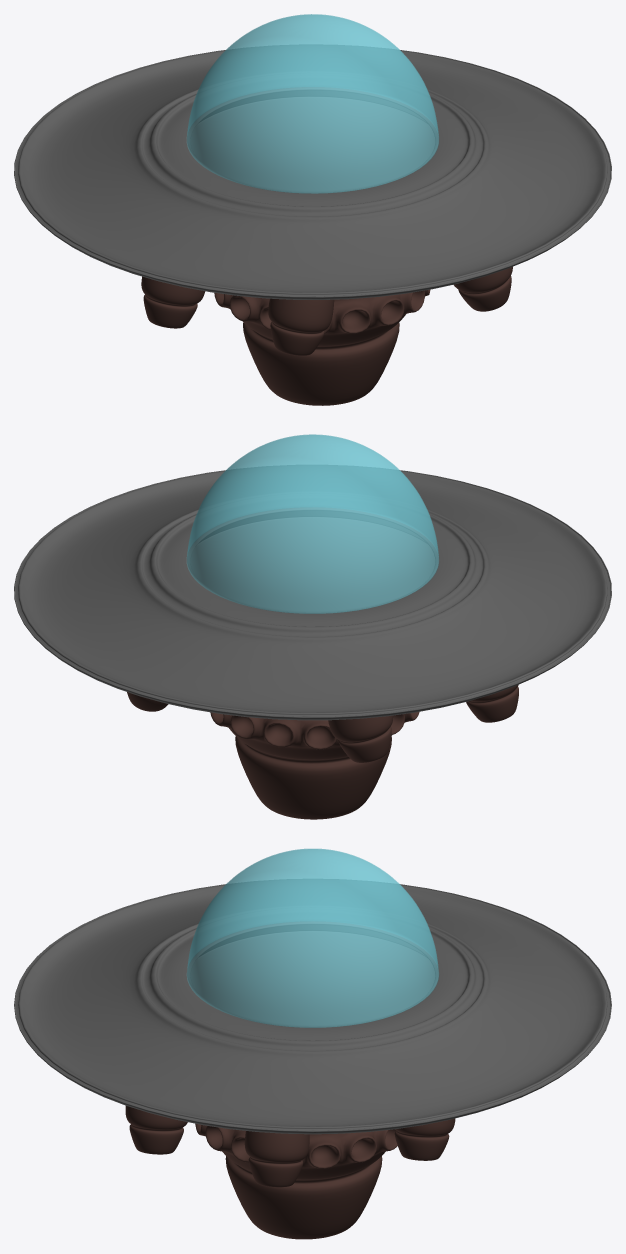
Rendered from EnemySaucer.fbx.
The picture shows the model from 3 angles, top to bottom: view 1: azimuth 30°, elevation 25°; view 2: azimuth 150°, elevation 25°; view 3: azimuth 270°, elevation 25°; orthographic projection.
Visible parts, largest first — view 1: Cylinder.004, Sphere, Circle.003, Circle.001; view 2: Cylinder.004, Sphere, Circle.003, Circle.001; view 3: Cylinder.004, Sphere, Circle.003, Circle.001.
Boxes of the visible parts, x1=… form: Cylinder.004: x1=14, y1=50, x2=611, y2=299; Sphere: x1=187, y1=14, x2=439, y2=193; Circle.003: x1=214, y1=289, x2=430, y2=405; Circle.001: x1=141, y1=267, x2=512, y2=355; Cylinder.004: x1=14, y1=470, x2=611, y2=720; Sphere: x1=186, y1=434, x2=438, y2=613; Circle.003: x1=210, y1=712, x2=419, y2=819; Circle.001: x1=127, y1=685, x2=518, y2=762; Cylinder.004: x1=14, y1=884, x2=611, y2=1134; Sphere: x1=187, y1=848, x2=438, y2=1027; Circle.003: x1=195, y1=1123, x2=397, y2=1239; Circle.001: x1=125, y1=1106, x2=455, y2=1187.
Bounding box in the file's own units: 32.48 × 21.38 × 32.48.
